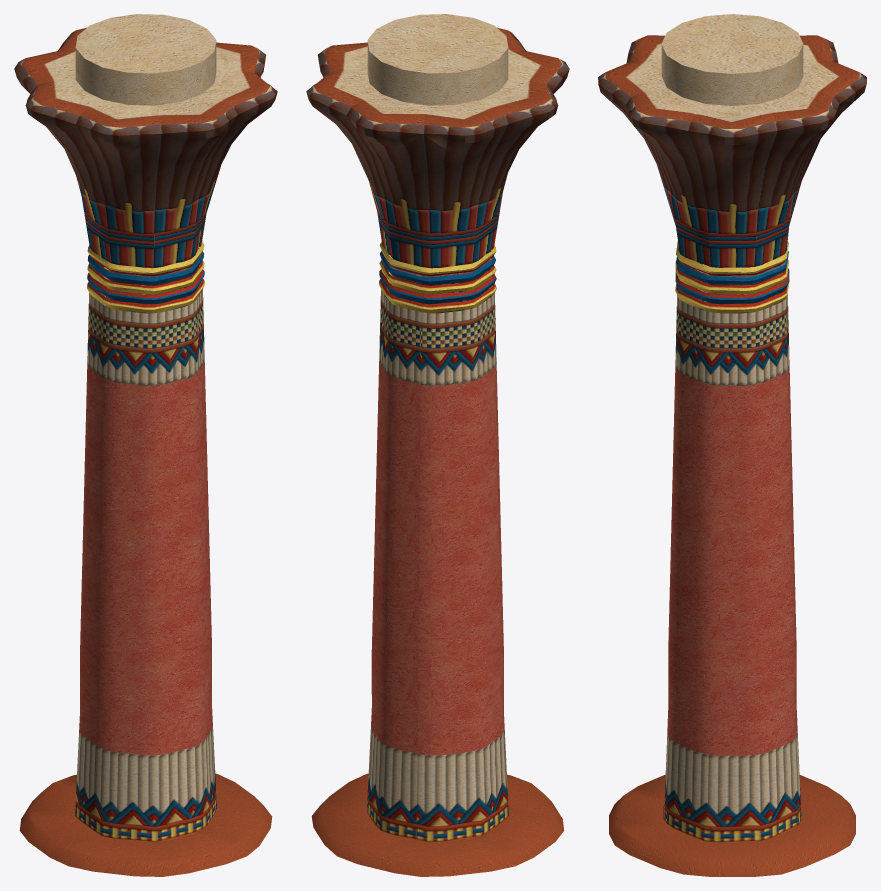
File: Column1.FBX
The picture shows the model from 3 angles, left to right: view 1: azimuth 30°, elevation 25°; view 2: azimuth 150°, elevation 25°; view 3: azimuth 270°, elevation 25°; orthographic projection.
Parts seen in each view (by area): view 1: column1; view 2: column1; view 3: column1.
Boxes of the visible parts, x1,y1,x2,y2 form: column1: (14, 14, 277, 876); column1: (306, 14, 569, 876); column1: (598, 14, 866, 876).
Bounding box in the file's own units: 123 × 395 × 123.
Materials: 1 (1 with a texture image).
